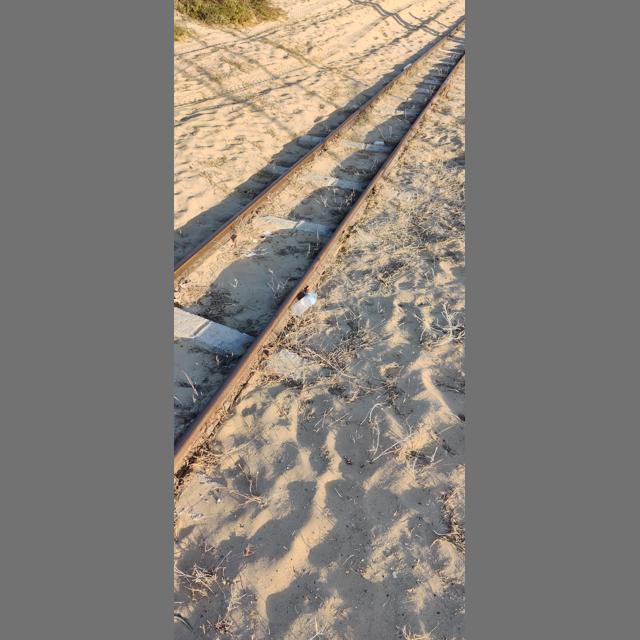litter: (292, 293, 318, 316), (374, 141, 385, 146), (263, 231, 272, 236), (247, 254, 256, 257), (418, 73, 421, 76)
